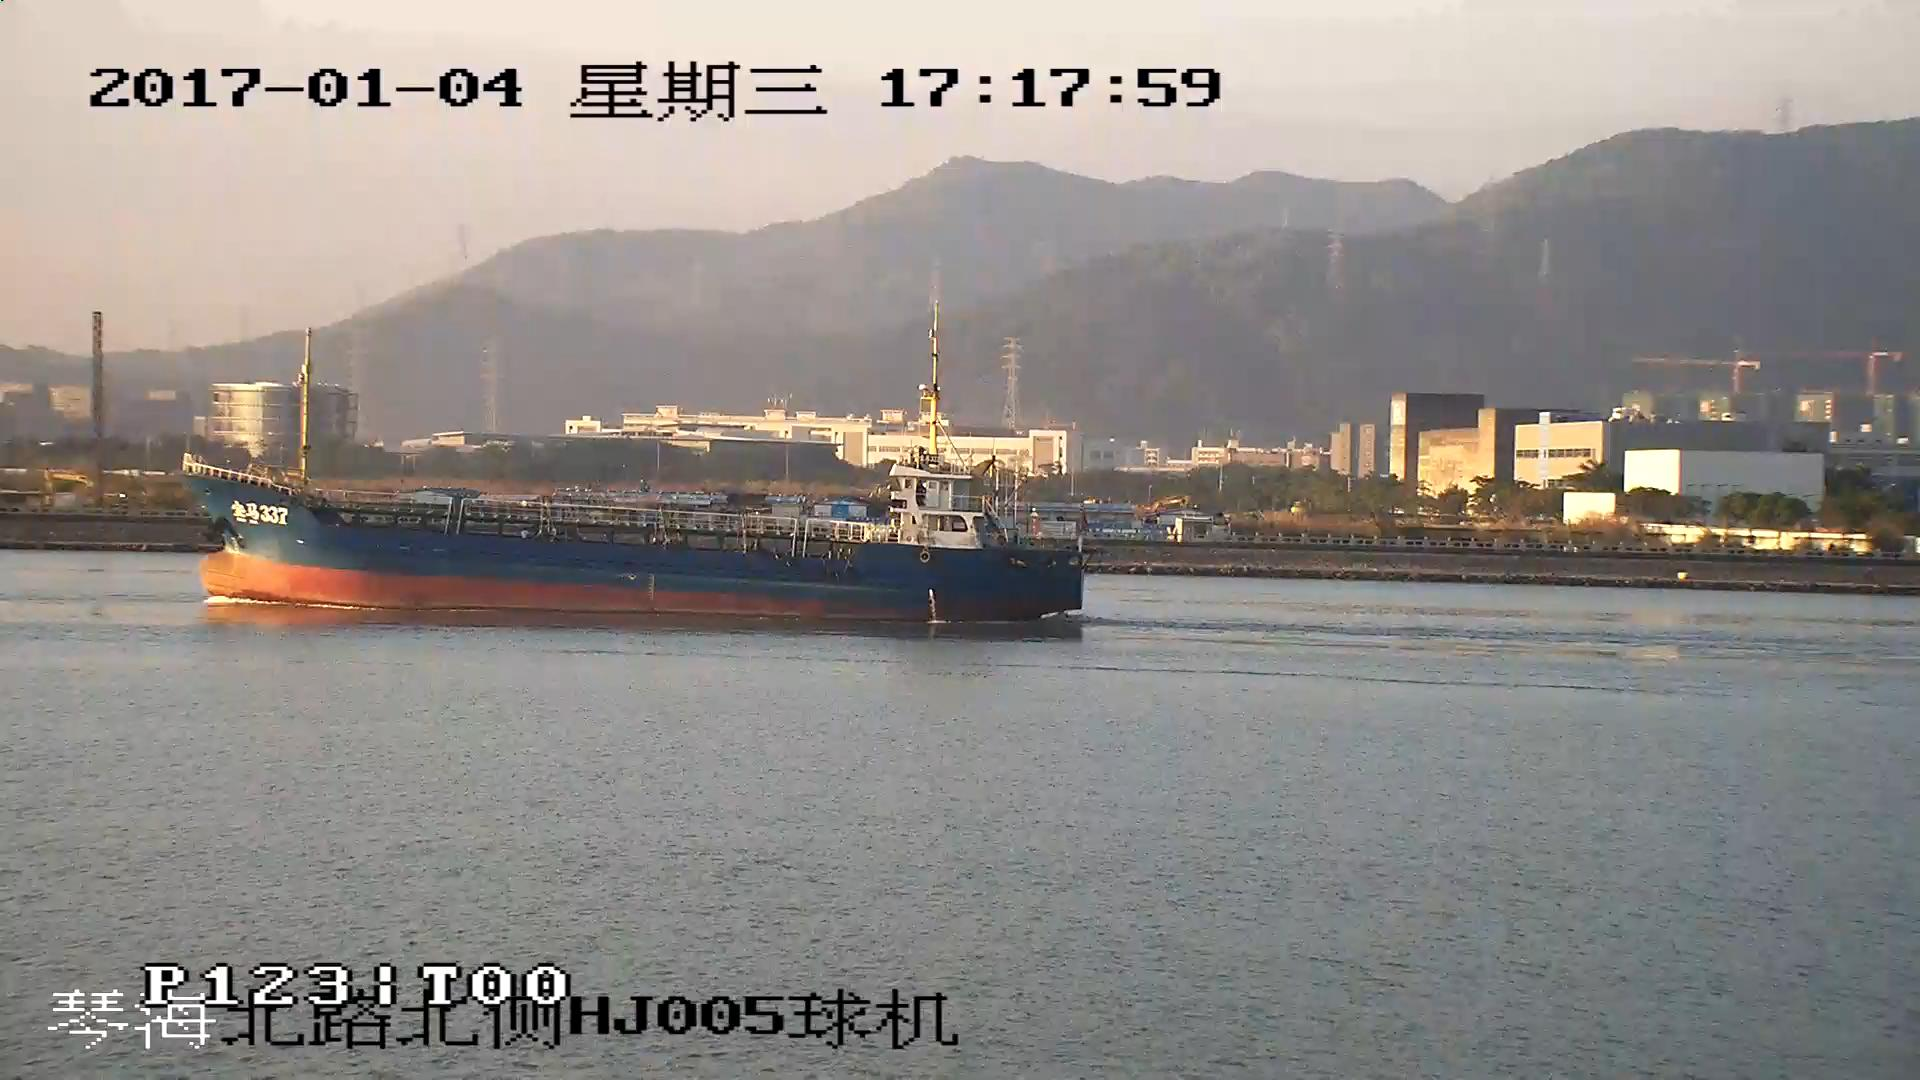general cargo ship: (178, 304, 1087, 622)
